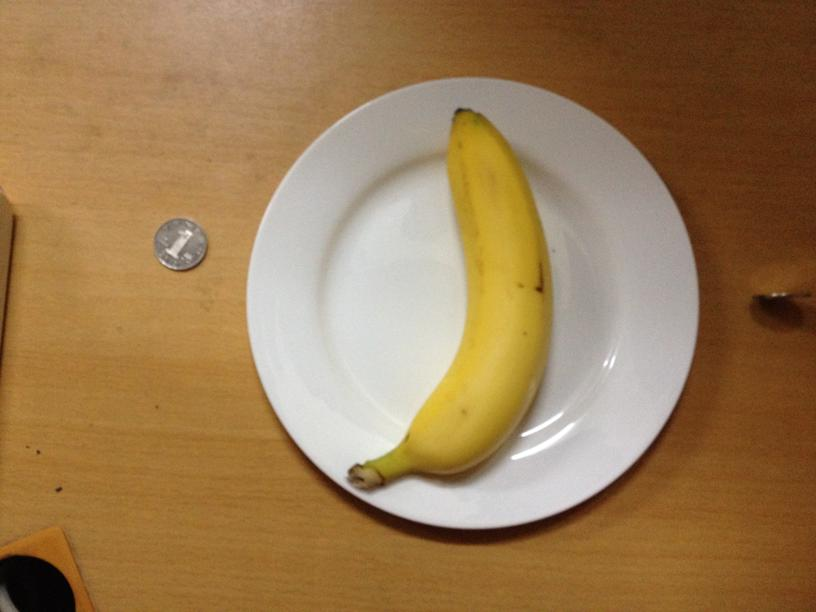banana: (370, 104, 551, 488)
coin: (151, 217, 207, 270)
